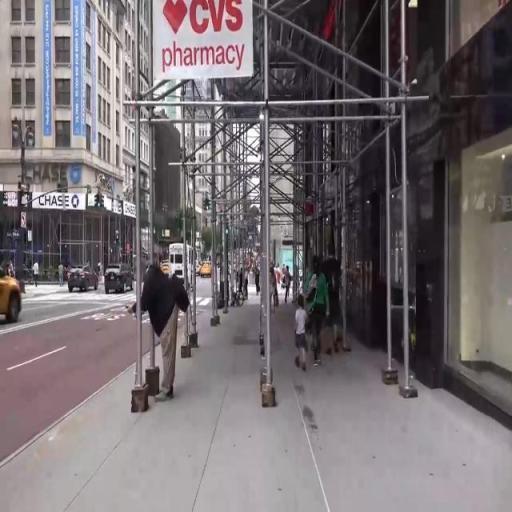person: (126, 253, 181, 400), (304, 256, 326, 370), (325, 245, 344, 361), (296, 298, 307, 379), (271, 264, 279, 323), (284, 267, 293, 312), (255, 265, 262, 305), (34, 260, 41, 289), (245, 267, 249, 306), (59, 263, 65, 288), (241, 266, 244, 300)
